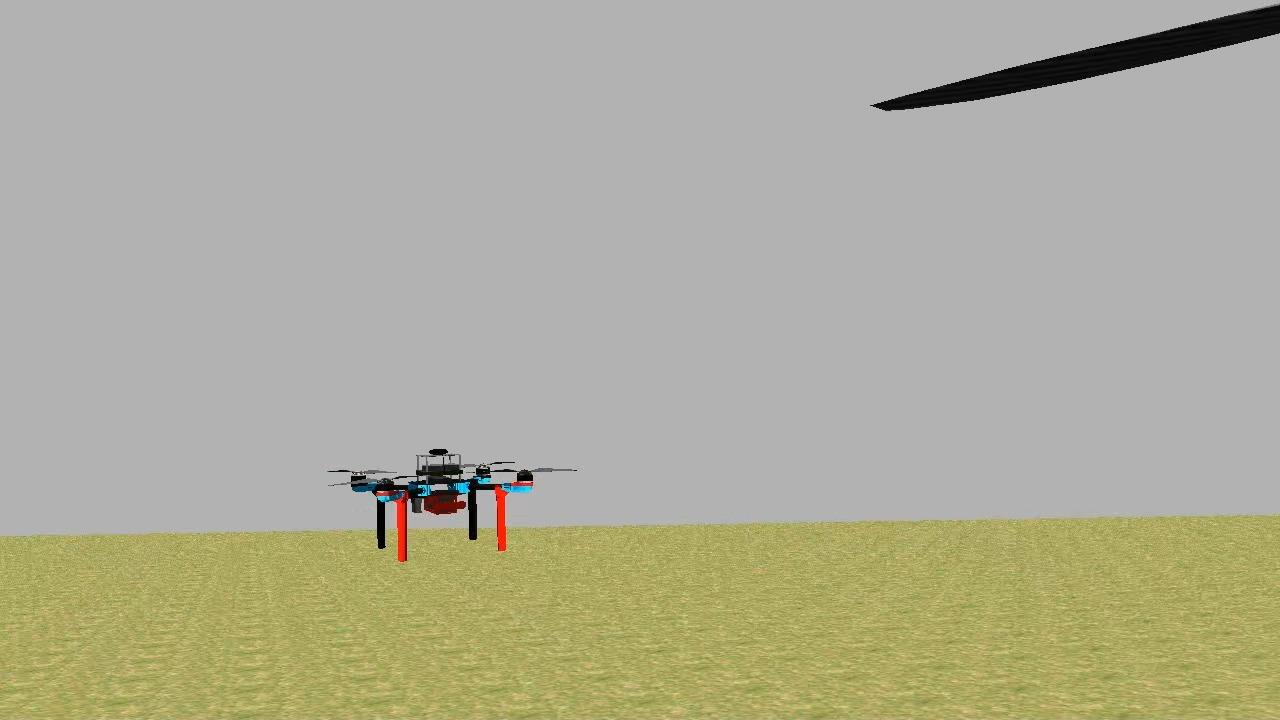UAV: (340, 442, 540, 562)
